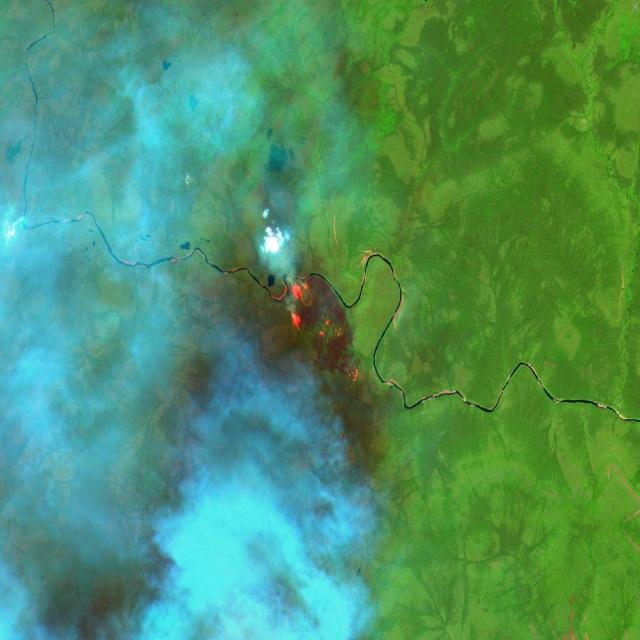fire: (287, 274, 360, 386)
